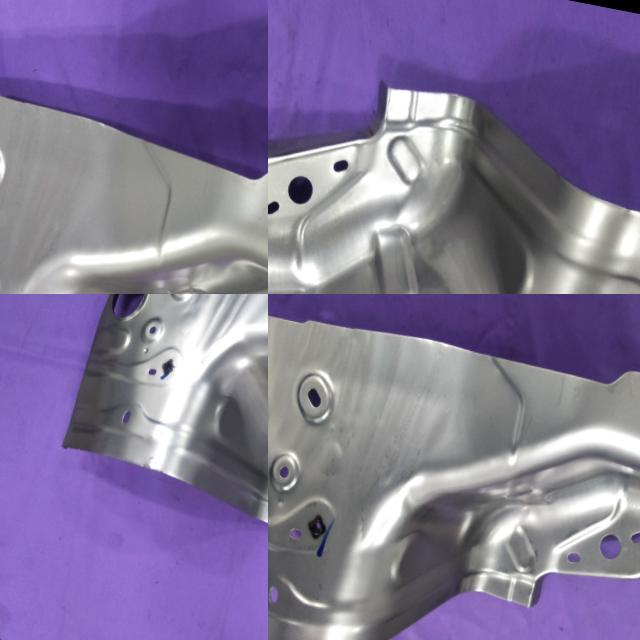Healthy: (268, 294, 640, 640), (268, 42, 640, 294), (0, 64, 268, 294), (51, 294, 268, 572)
